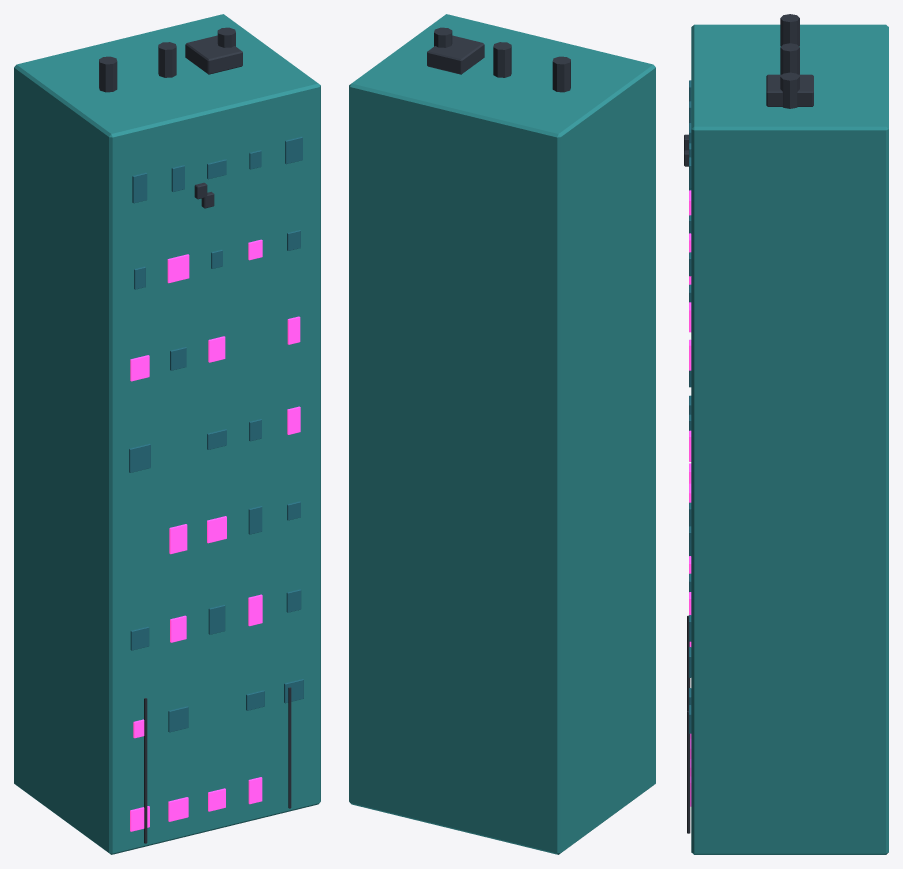
The model's file is building_006_seed11.glb.
3 renders of one model, left to right at view 1: azimuth 30°, elevation 25°; view 2: azimuth 150°, elevation 25°; view 3: azimuth 270°, elevation 25°, orthographic.
Parts seen in each view (by area): view 1: building_006_seed11; view 2: building_006_seed11; view 3: building_006_seed11.
Boxes of the visible parts, x1=… form: building_006_seed11: x1=14, y1=14, x2=320, y2=854; building_006_seed11: x1=349, y1=14, x2=655, y2=854; building_006_seed11: x1=684, y1=14, x2=888, y2=854.
Bounding box in the file's own units: 7.12 × 24.07 × 5.9.
